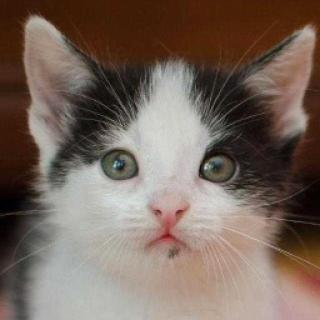cat: (19, 13, 320, 284)
nose: (146, 176, 194, 232)
